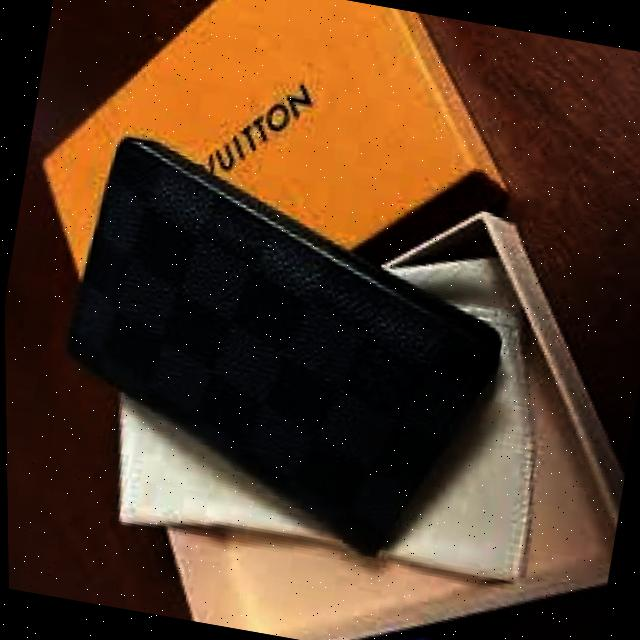cuzdan: (24, 118, 529, 595)
